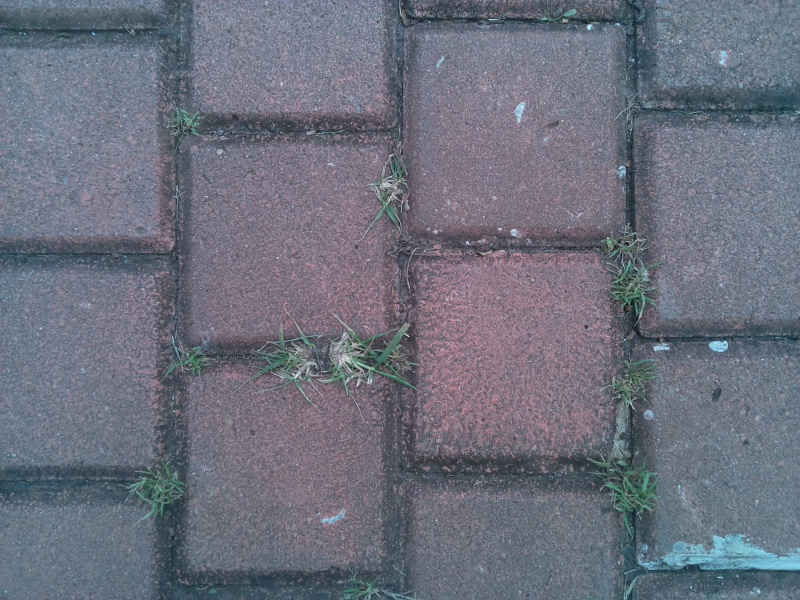Weed: (322, 315, 415, 392), (593, 447, 659, 532), (601, 223, 657, 320), (251, 320, 324, 391), (363, 150, 415, 232), (124, 458, 193, 519), (603, 353, 655, 415), (162, 335, 212, 379), (164, 98, 210, 144), (337, 573, 411, 600), (529, 4, 587, 34), (617, 80, 644, 139)
